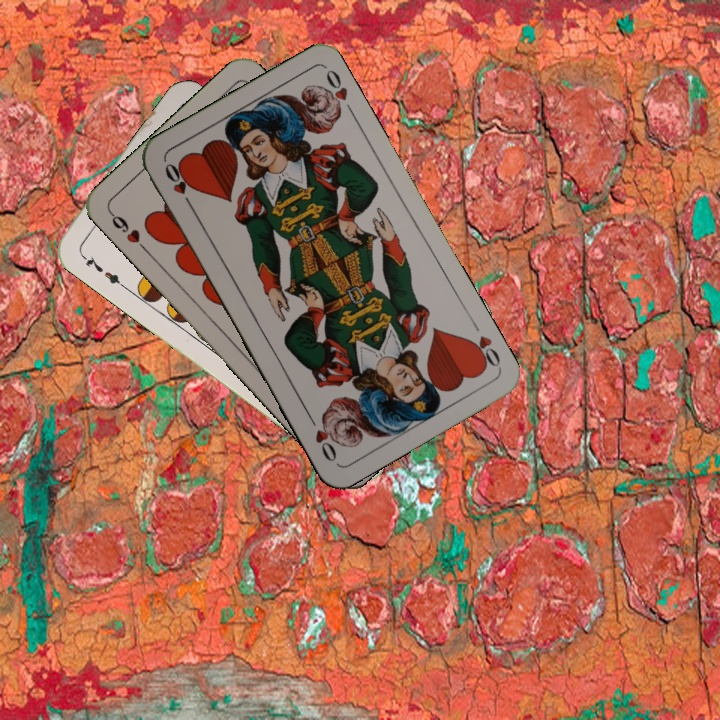E7: (76, 250, 127, 290)
H9: (105, 207, 150, 255)
HO: (160, 159, 197, 212), (463, 331, 503, 373)
